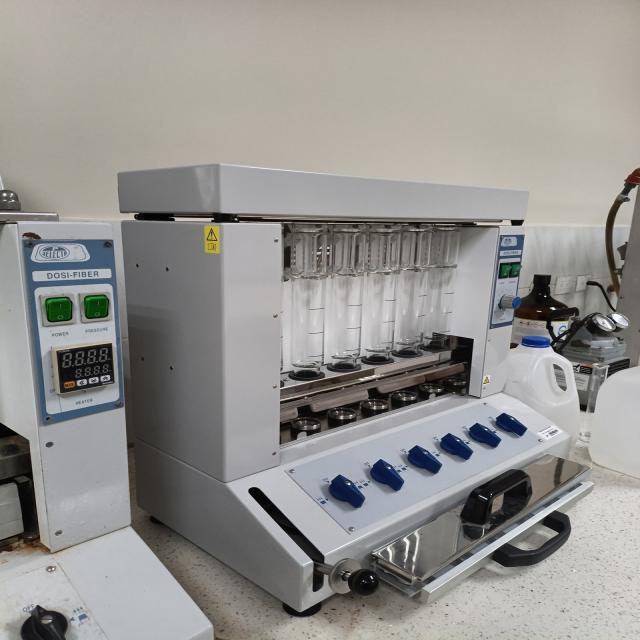Analizador de Fibra Cruda y Fracciones: (119, 164, 592, 614)
